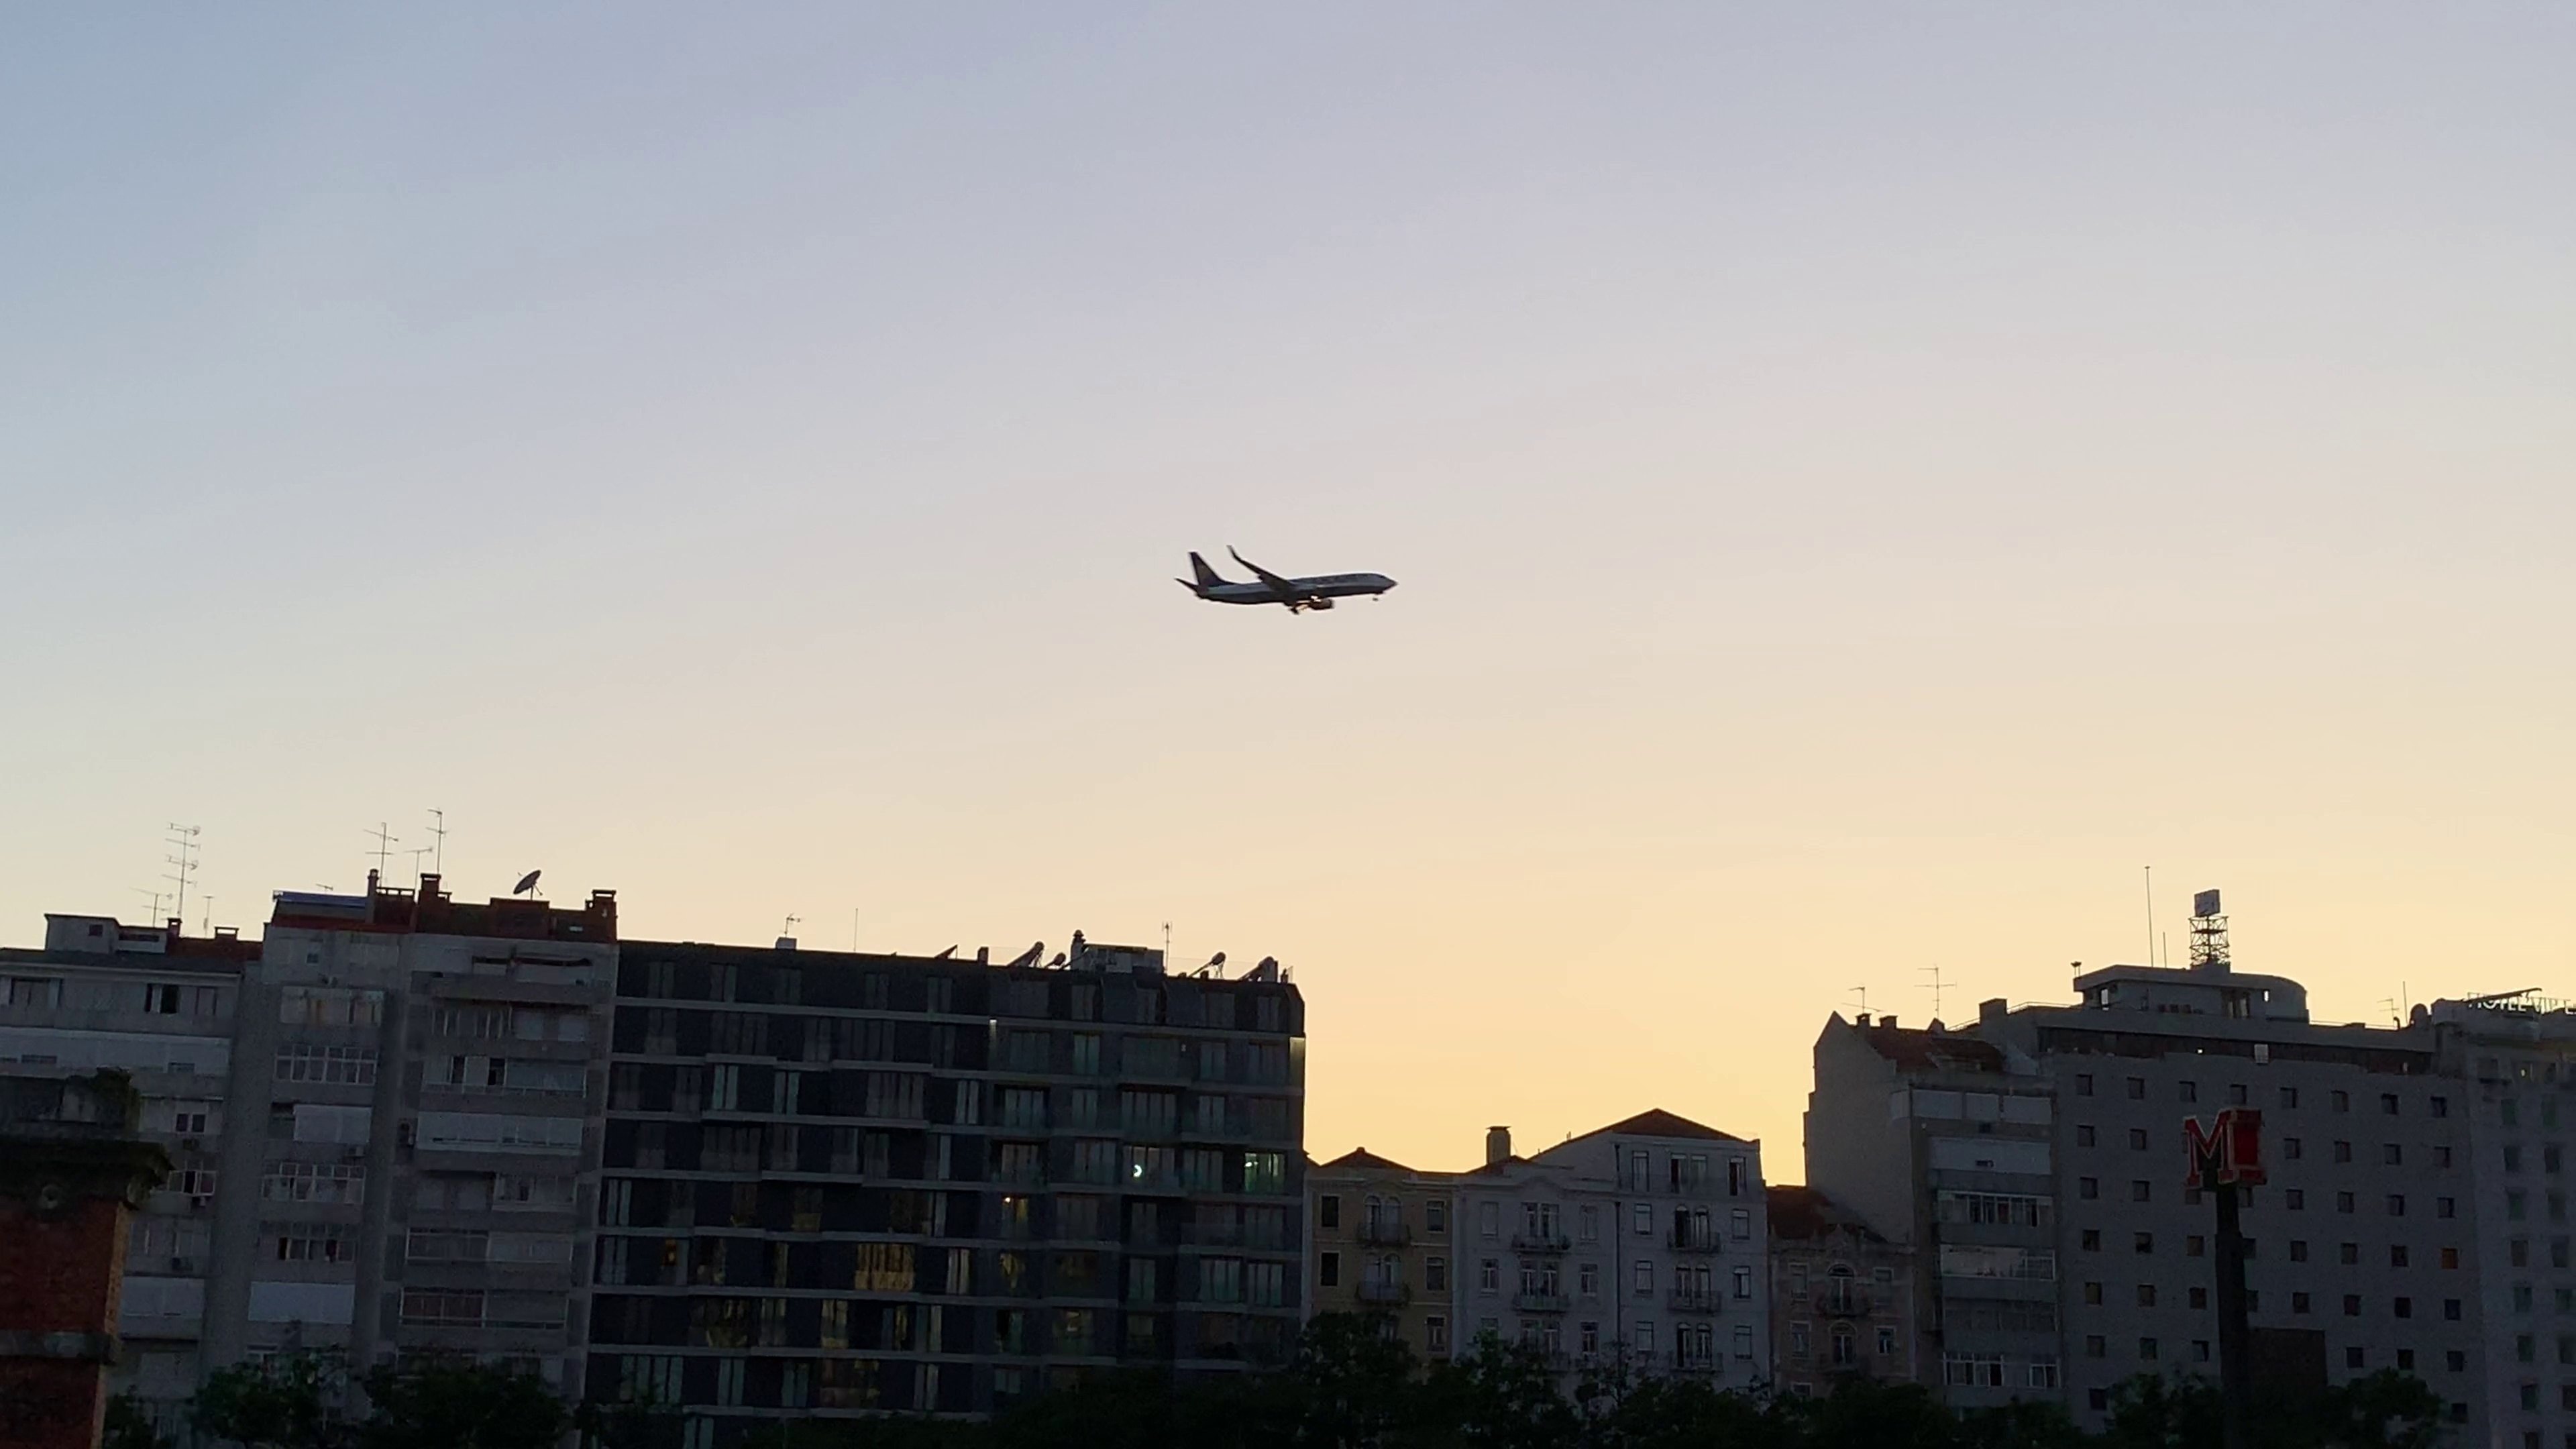plane: (1180, 545, 1399, 614)
